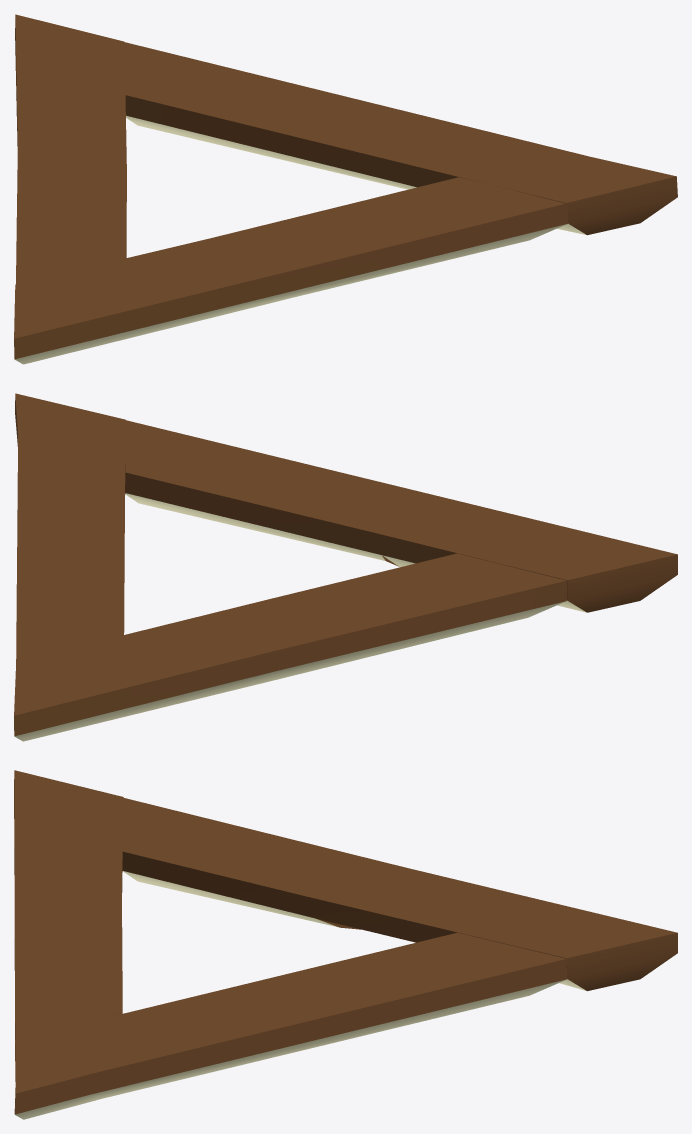
The model's file is birchSplitLogTriFloorSection1.glb.
3 renders of one model, top to bottom at view 1: azimuth 30°, elevation 25°; view 2: azimuth 150°, elevation 25°; view 3: azimuth 270°, elevation 25°, orthographic.
Parts seen in each view (by area): view 1: Outside; view 2: Outside; view 3: Outside.
Boxes of the visible parts, left/top/right/bottom form: Outside: left=14, top=14, right=677, bottom=364; Outside: left=14, top=393, right=677, bottom=741; Outside: left=14, top=770, right=677, bottom=1119.
Bounding box in the file's own units: 2.02 × 0.1233 × 1.75.
